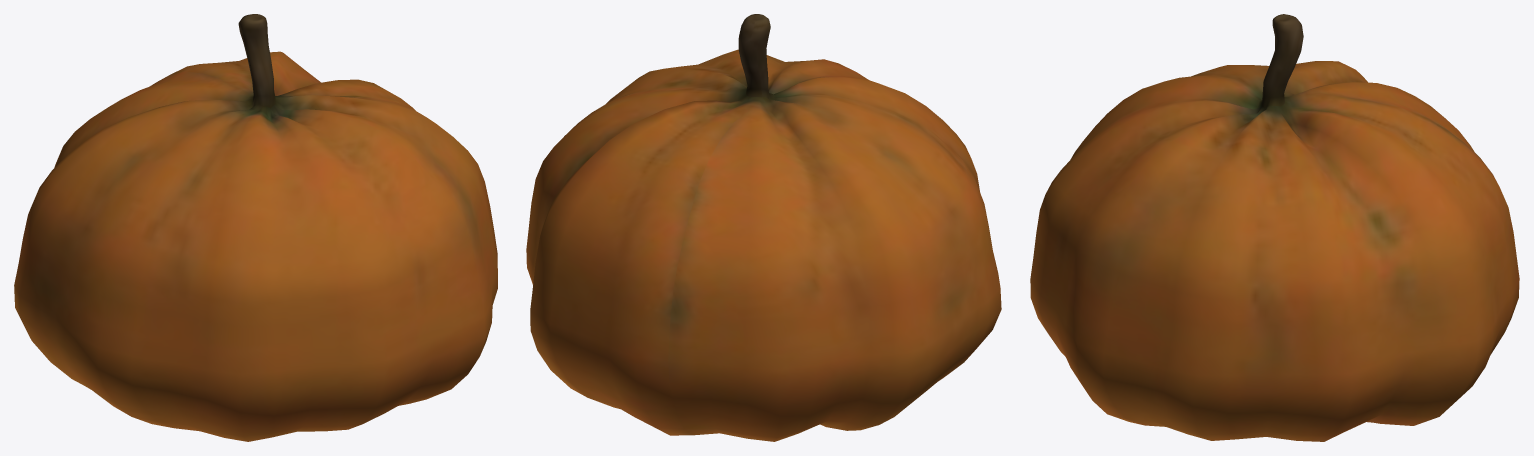
Rendered from pr_pumpkin.glb.
3 views of the same model, side by side, from view 1: azimuth 30°, elevation 25°; view 2: azimuth 150°, elevation 25°; view 3: azimuth 270°, elevation 25° (orthographic).
Parts seen in each view (by area): view 1: body|Pumpkin; view 2: body|Pumpkin; view 3: body|Pumpkin.
Boxes of the visible parts, x1,y1,x2,y2 form: body|Pumpkin: (14, 14, 497, 441); body|Pumpkin: (526, 14, 1001, 441); body|Pumpkin: (1030, 14, 1519, 441).
Bounding box in the file's own units: 0.592 × 0.5287 × 0.6058.
1 material, 1 textured.
